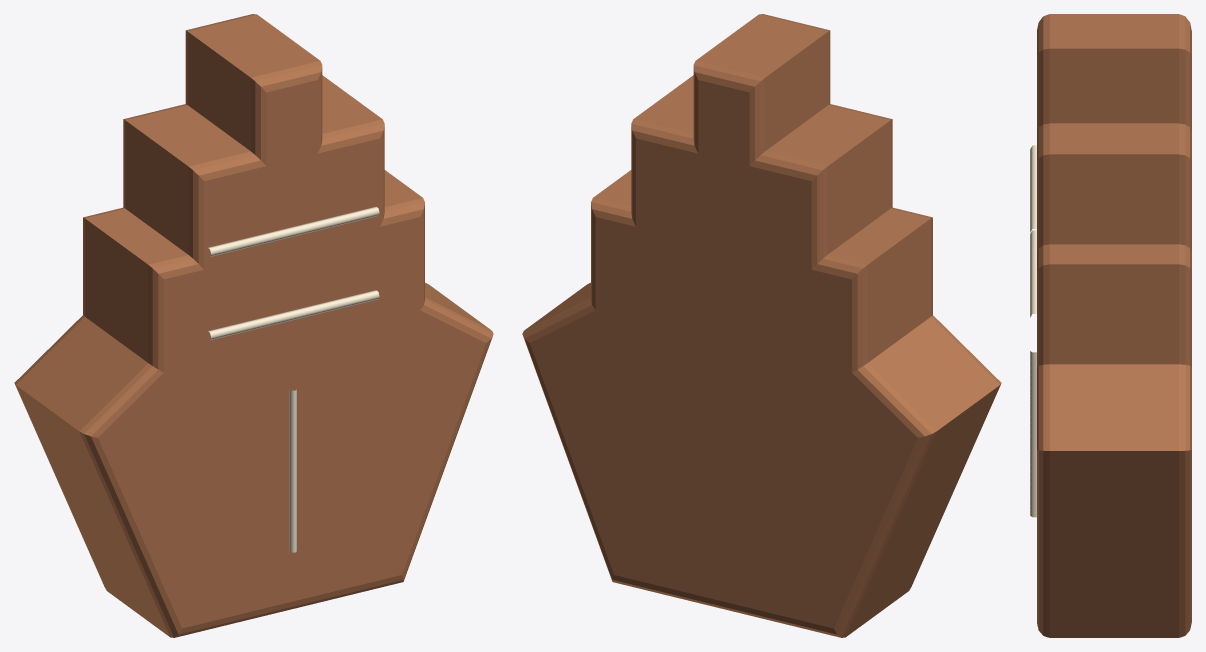
Rendered from meeple-5.glb.
3 views of the same model, side by side, from view 1: azimuth 30°, elevation 25°; view 2: azimuth 150°, elevation 25°; view 3: azimuth 270°, elevation 25° (orthographic).
Visible parts, largest first — view 1: meeple-5-여객선; view 2: meeple-5-여객선; view 3: meeple-5-여객선.
Boxes of the visible parts, box(x1,y1,x2,y2) form: meeple-5-여객선: box(14, 14, 493, 637); meeple-5-여객선: box(522, 14, 1001, 637); meeple-5-여객선: box(1030, 14, 1191, 637).
Size of the model in its own units: 0.024 by 0.03 by 0.008.
